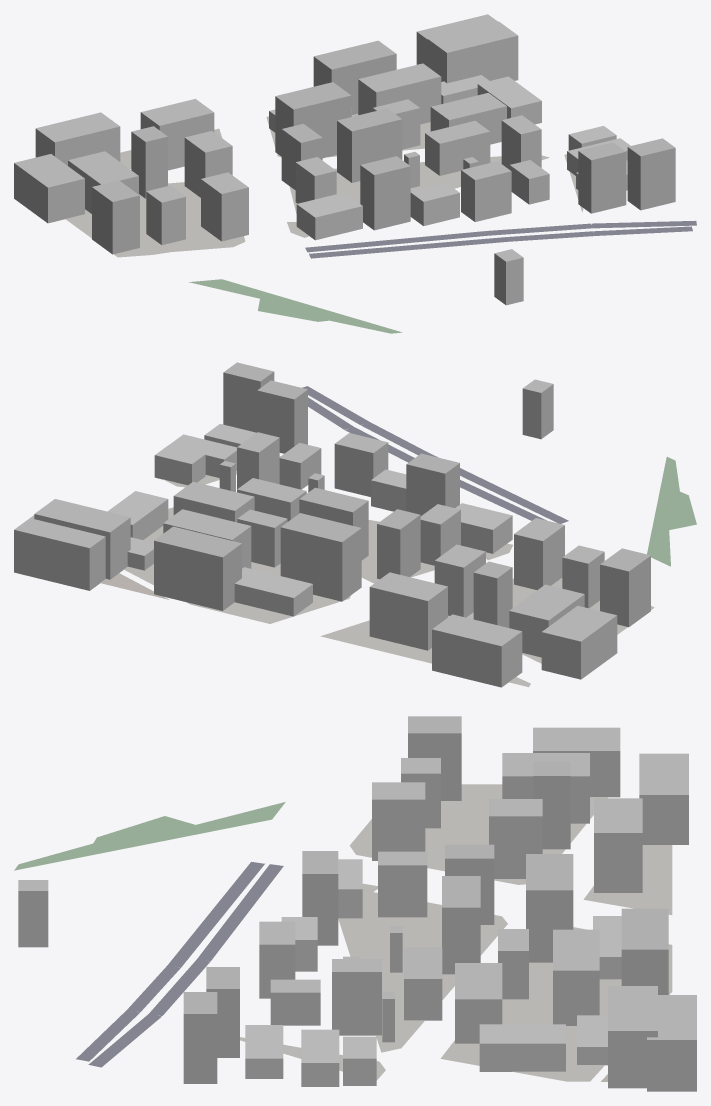
File: 131_111_mid.glb
The picture shows the model from 3 angles, top to bottom: view 1: azimuth 30°, elevation 25°; view 2: azimuth 150°, elevation 25°; view 3: azimuth 270°, elevation 25°; orthographic projection. The views are drawn at different scales.
Bounding box in the file's own units: 534 × 58.35 × 485.
